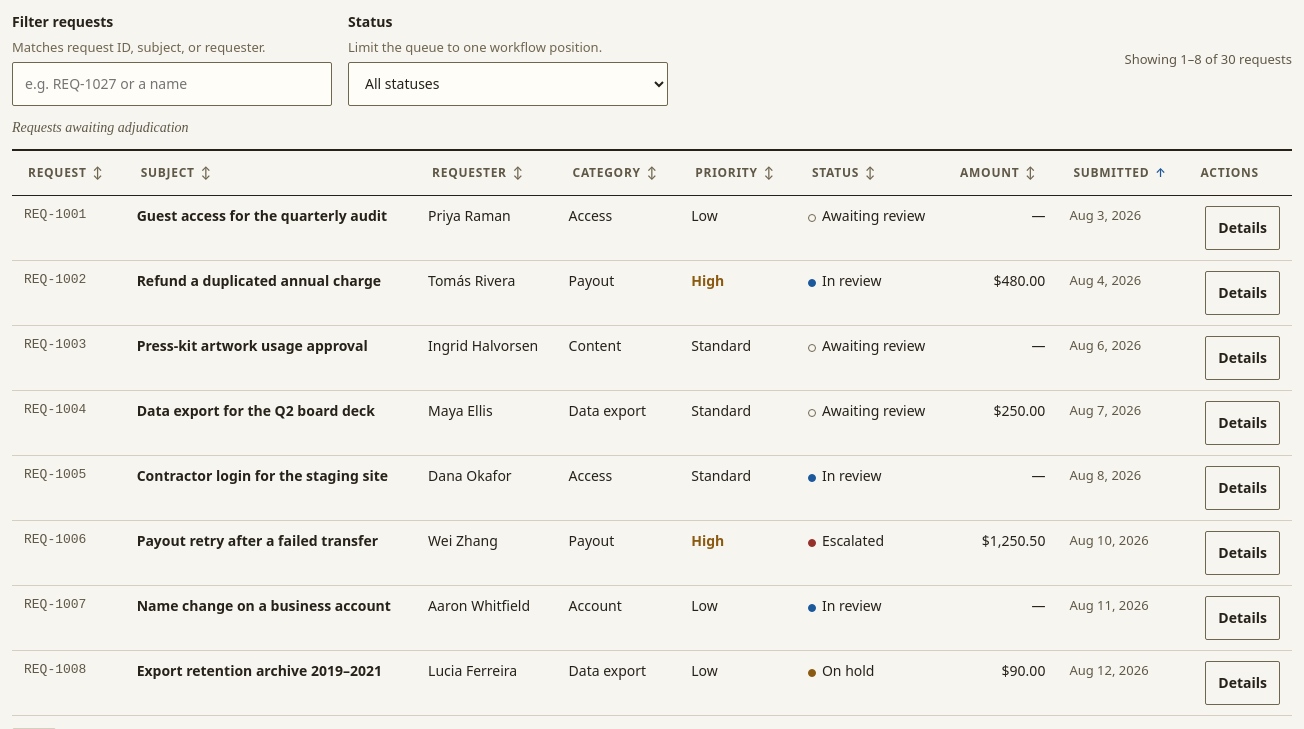
RequestQueue › sorts by the clicked header and toggles direction
Click the button "Submitted". click: click(1120, 173)
box: 1069,151 -> 1171,195
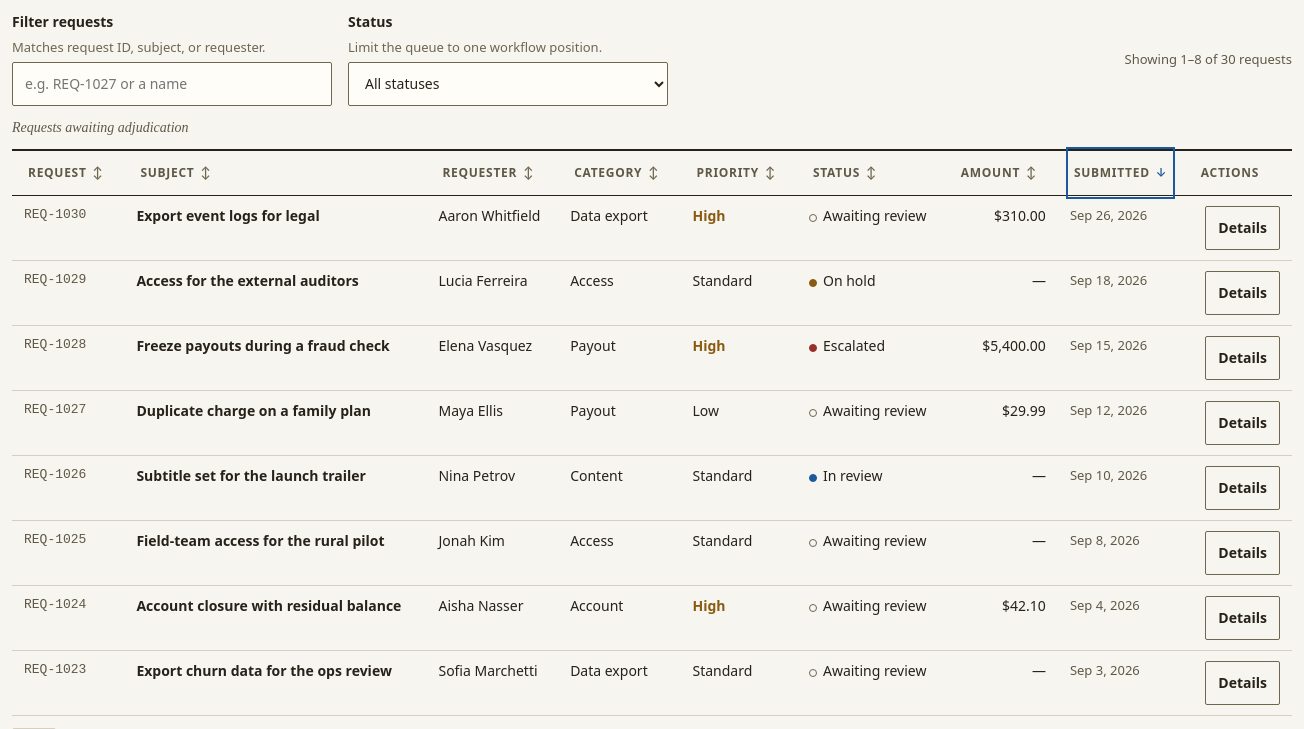
Result: the text "REQ-1030" is shown at 12,196 -> 124,261
Click the button "Submitted". click: click(1121, 173)
box: 1070,151 -> 1171,195
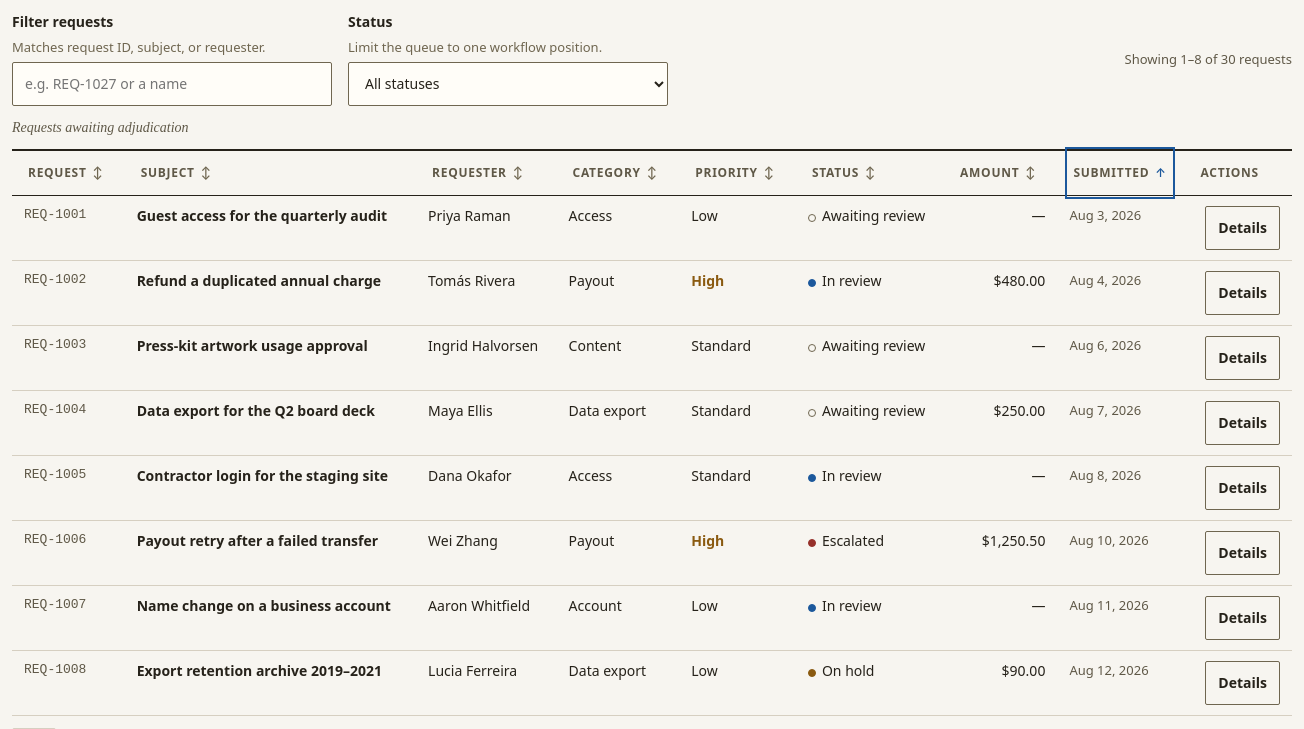
Result: the text "REQ-1001" is shown at 12,196 -> 125,261
